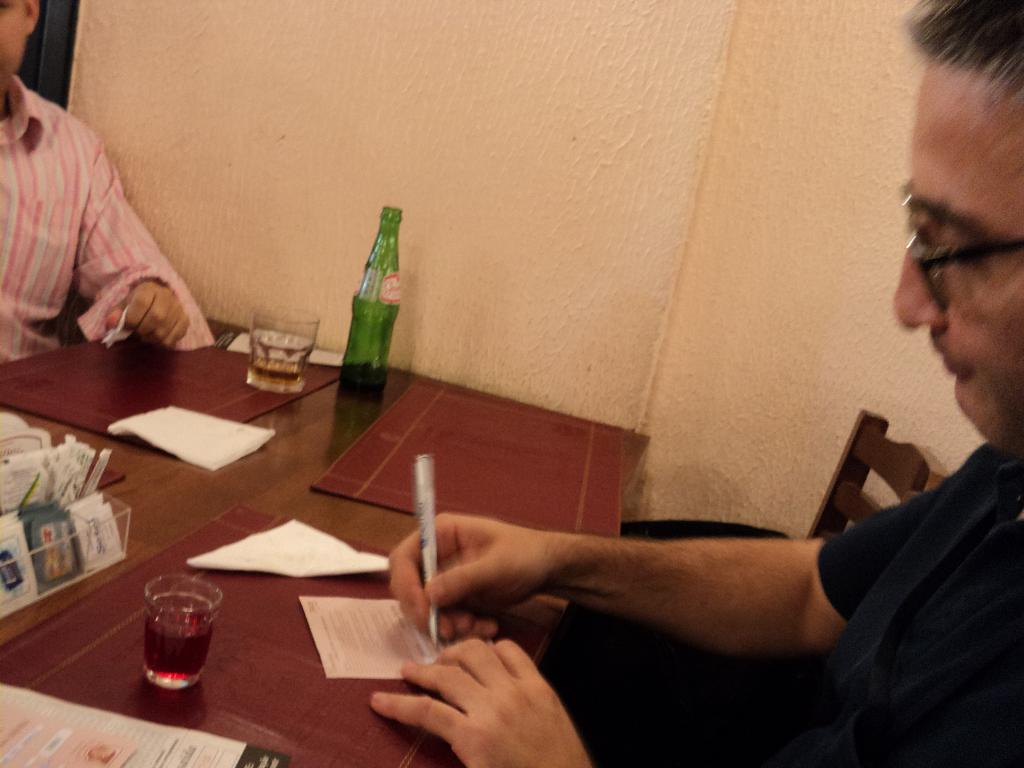Human_hand: (365, 642, 584, 756), (384, 509, 550, 644), (103, 280, 195, 351)
